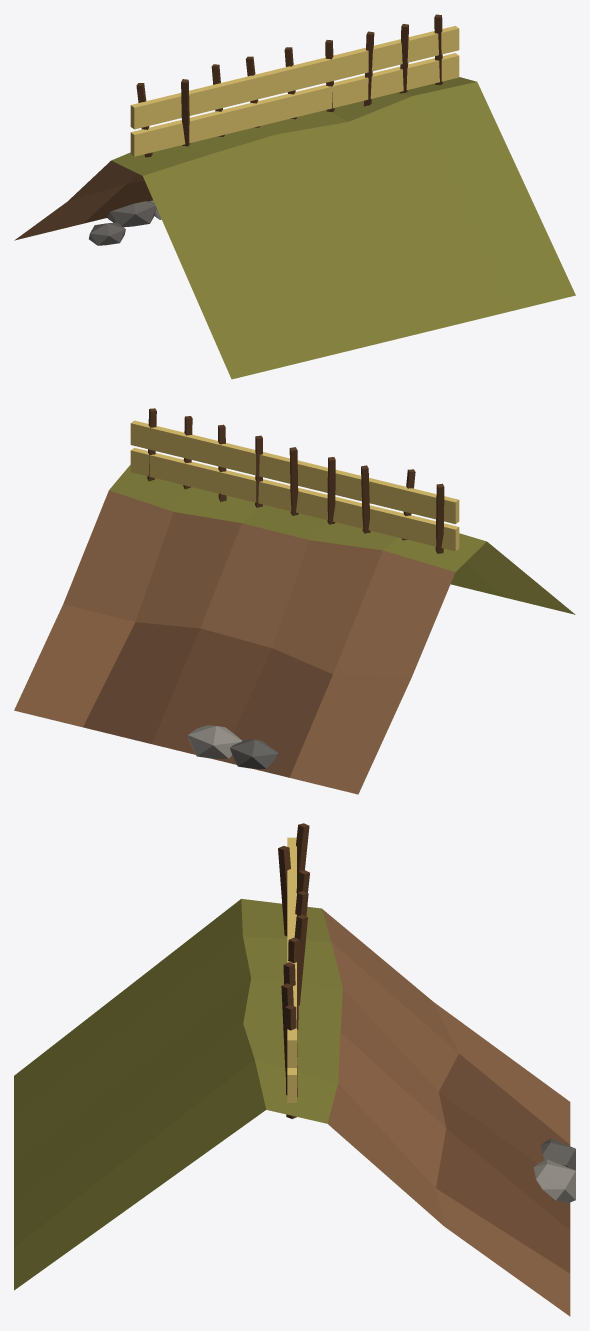
The model's file is SM_YardBerm.fbx.
The picture shows the model from 3 angles, top to bottom: view 1: azimuth 30°, elevation 25°; view 2: azimuth 150°, elevation 25°; view 3: azimuth 270°, elevation 25°; orthographic projection. The views are drawn at different scales.
Parts seen in each view (by area): view 1: SM_YardBerm; view 2: SM_YardBerm; view 3: SM_YardBerm.
Boxes of the visible parts, x1=… form: SM_YardBerm: x1=14, y1=14, x2=575, y2=379; SM_YardBerm: x1=14, y1=408, x2=575, y2=794; SM_YardBerm: x1=14, y1=823, x2=575, y2=1316.
Size of the model in its own units: 5.3 by 5.86 by 3.47.
